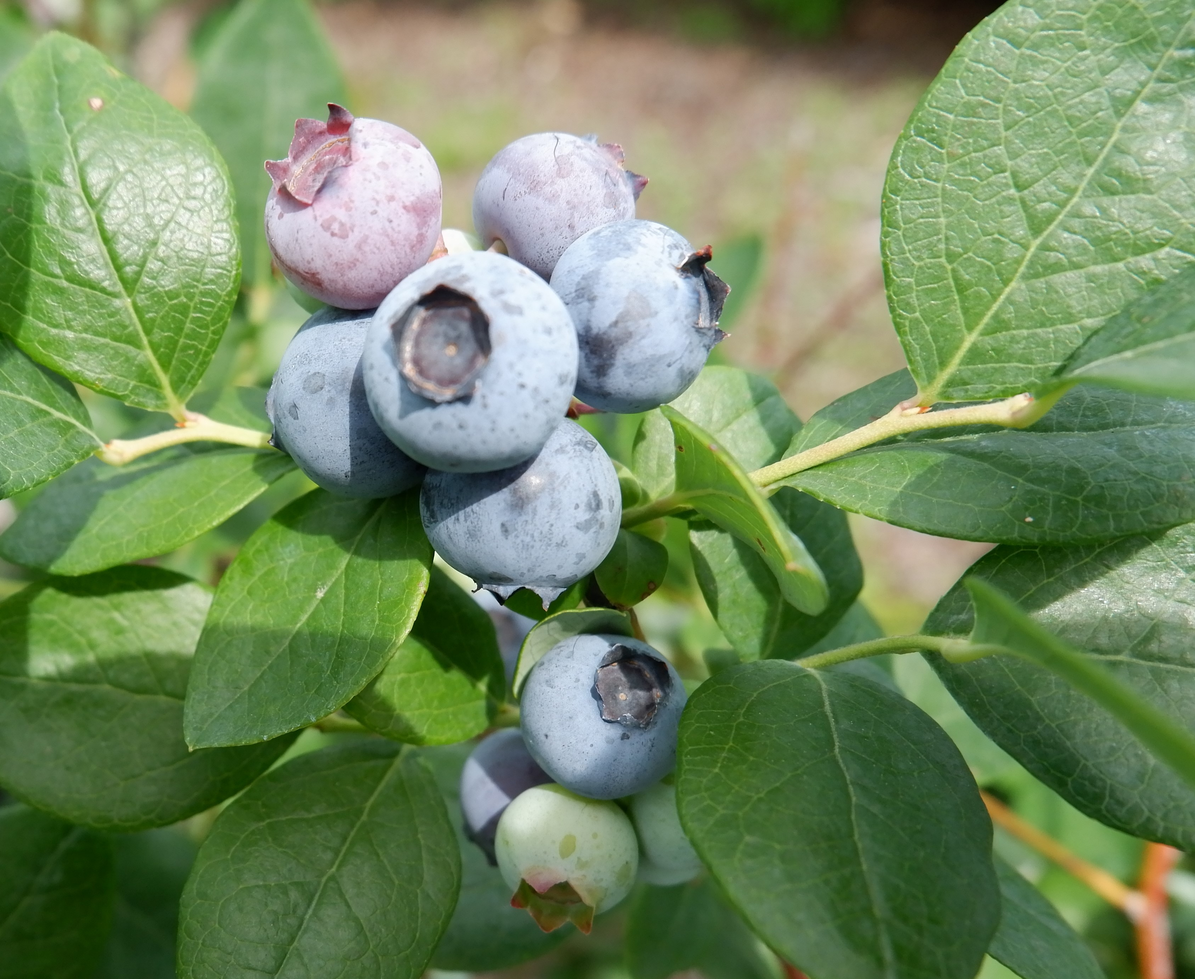Immature: (266, 116, 444, 309), (497, 788, 638, 923), (621, 782, 706, 871), (272, 260, 337, 315), (635, 853, 709, 887), (430, 229, 483, 261)
Mature: (362, 252, 581, 467), (422, 423, 616, 590), (555, 223, 721, 413), (268, 310, 420, 496), (525, 638, 683, 800), (474, 134, 638, 278), (460, 733, 545, 862)
